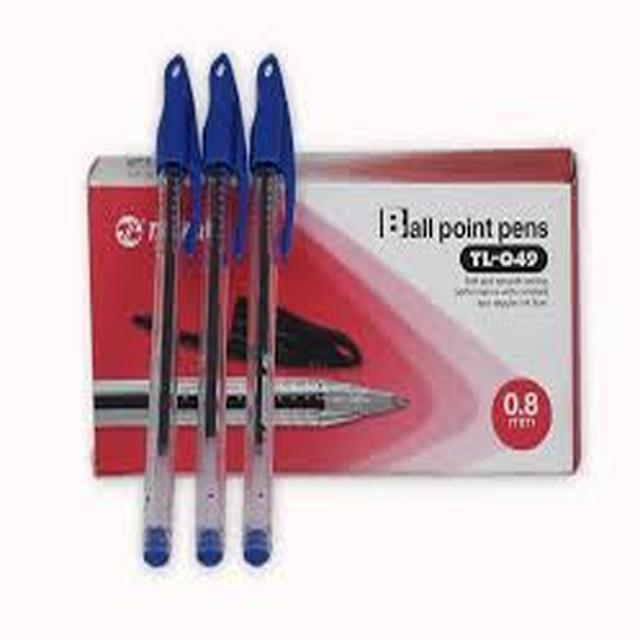pen: (121, 62, 208, 577), (176, 43, 252, 577), (75, 390, 444, 448), (250, 47, 289, 581)
